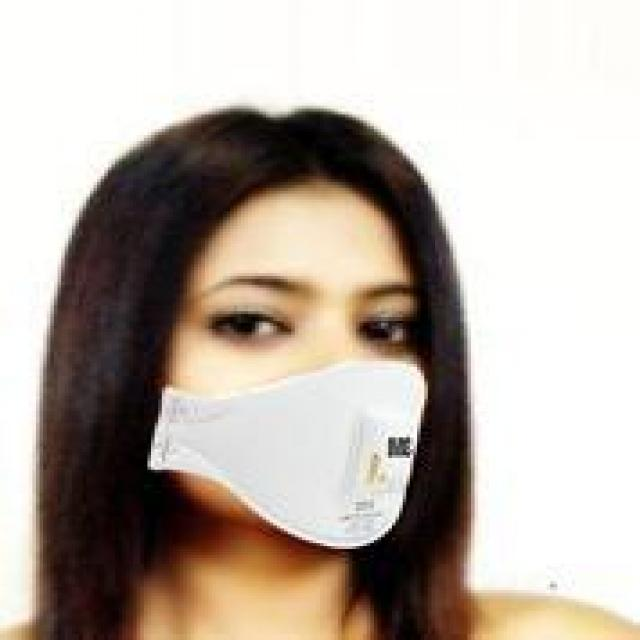mask: (133, 147, 521, 561)
